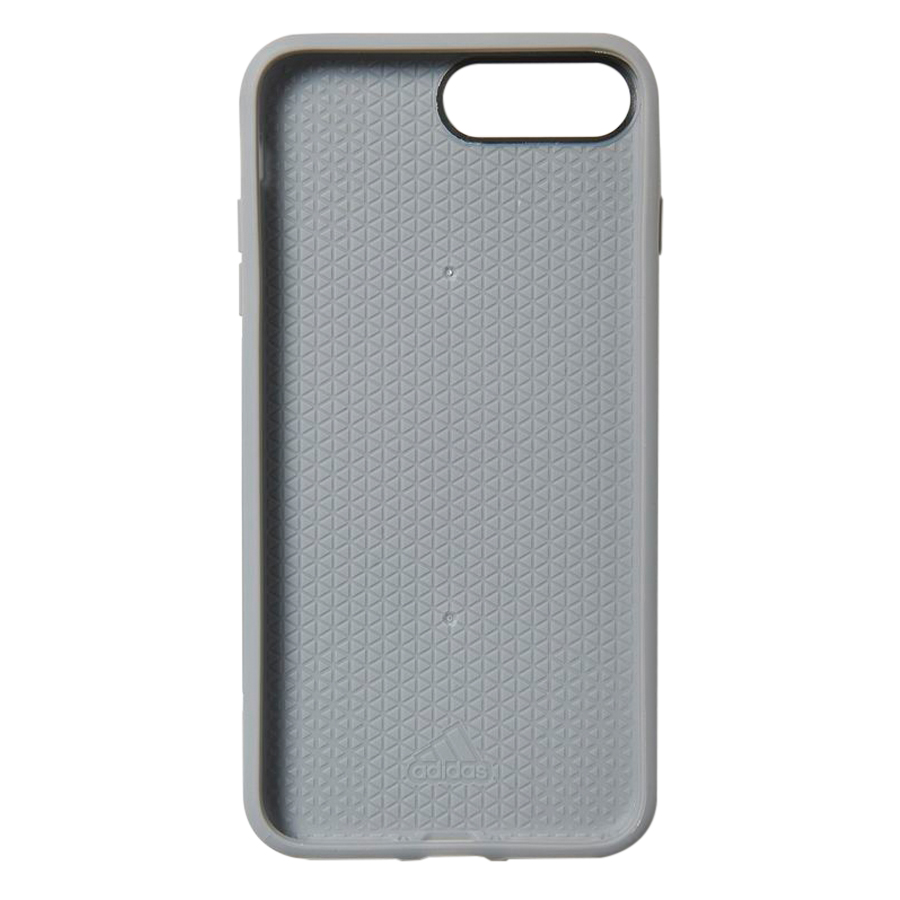Adidas: (401, 716, 500, 790)
